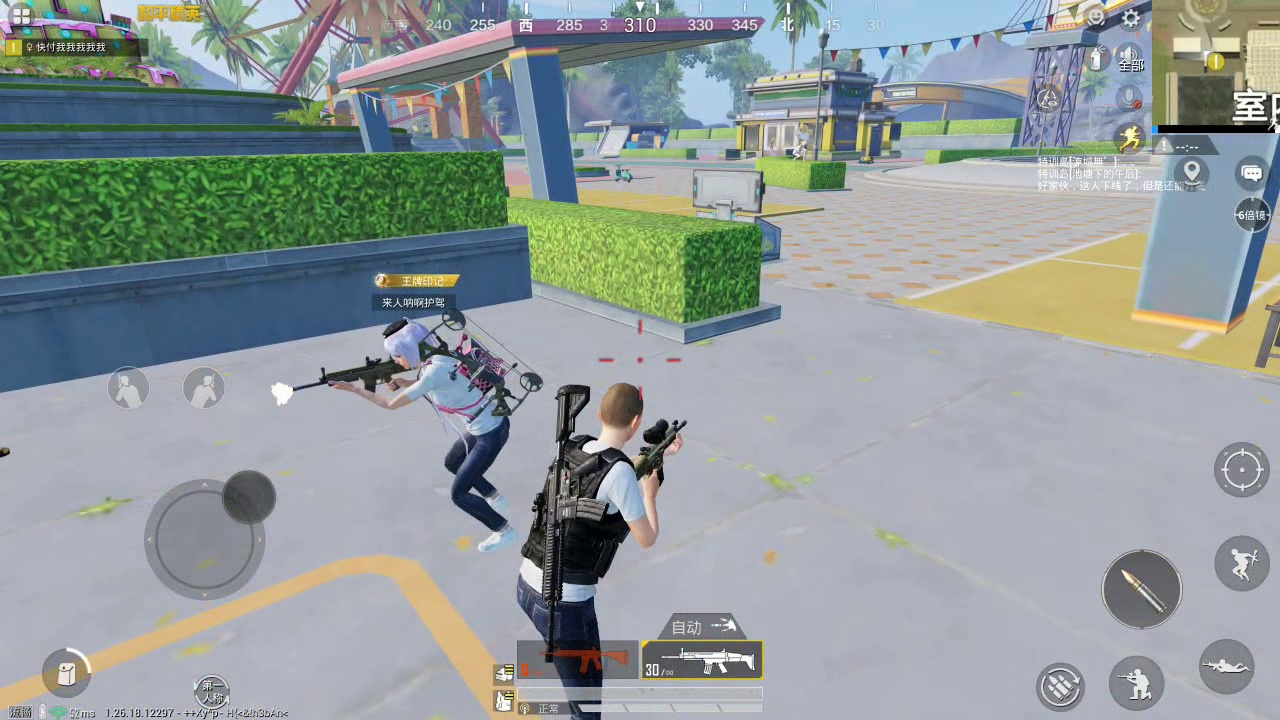enemy: (379, 312, 512, 558), (791, 138, 809, 161)
